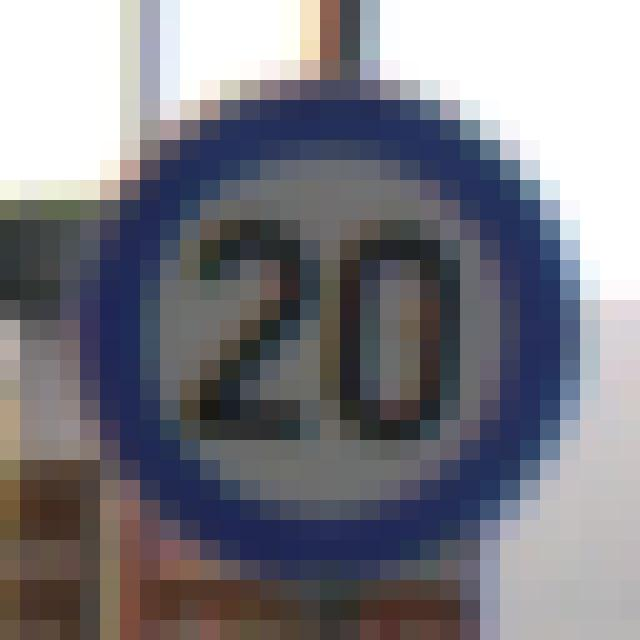SPEED LIMIT 20: (84, 77, 576, 523)
